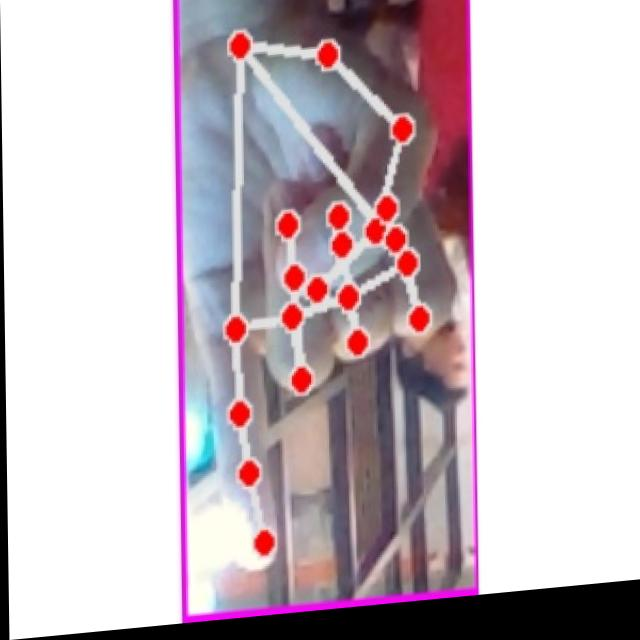I: (191, 0, 448, 578)
